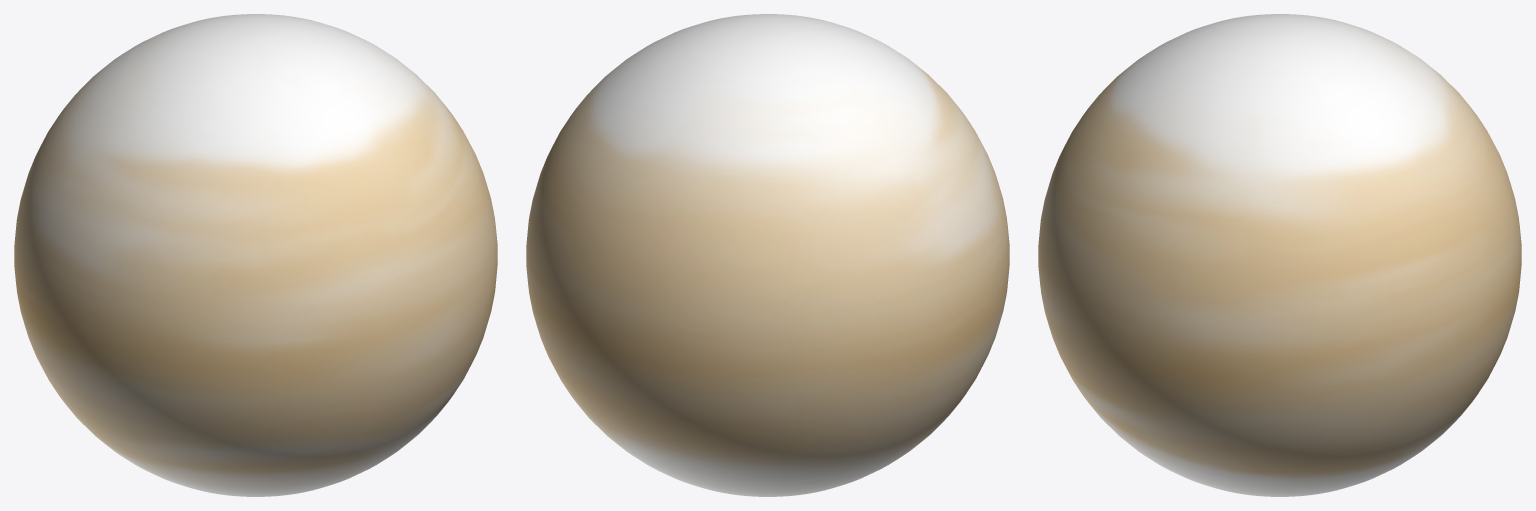
The model's file is VenusModel.obj.
3 views of the same model, side by side, from view 1: azimuth 30°, elevation 25°; view 2: azimuth 150°, elevation 25°; view 3: azimuth 270°, elevation 25° (orthographic).
Parts seen in each view (by area): view 1: obj1; view 2: obj1; view 3: obj1.
Boxes of the visible parts, <box> form: obj1: <box>14,14,497,496</box>; obj1: <box>526,14,1009,496</box>; obj1: <box>1038,14,1521,496</box>.
Size of the model in its own units: 1000 by 1000 by 1000.
